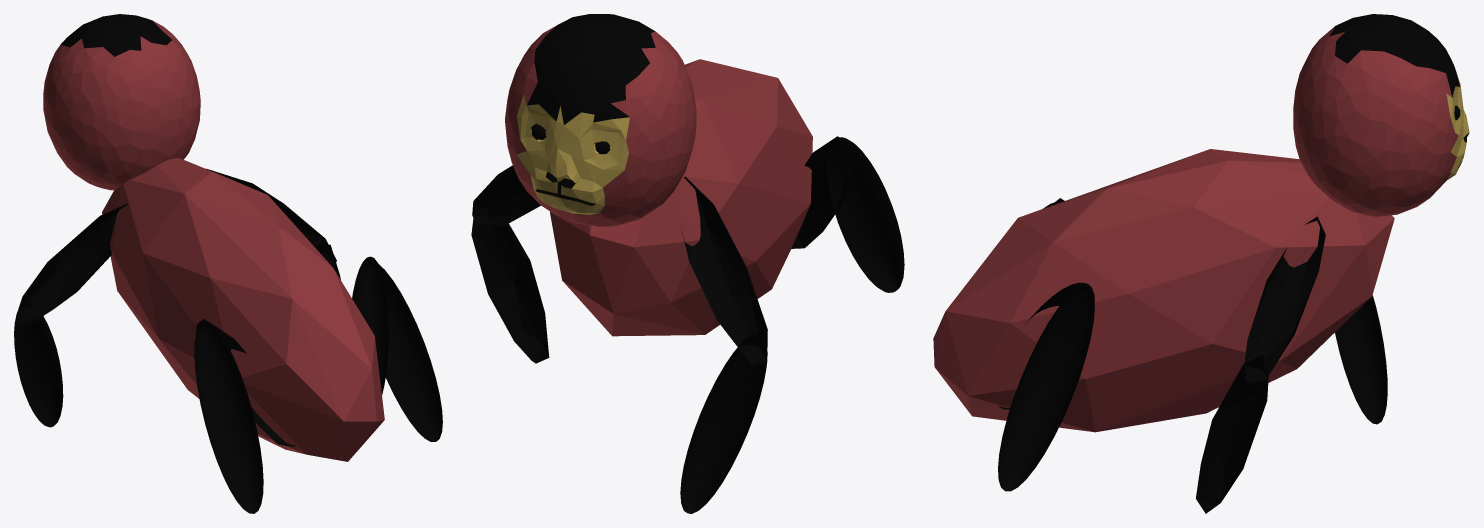
Rendered from małpa zła.fbx.
The picture shows the model from 3 angles, left to right: view 1: azimuth 30°, elevation 25°; view 2: azimuth 150°, elevation 25°; view 3: azimuth 270°, elevation 25°; orthographic projection. The views are drawn at different scales.
Visible parts, largest first — view 1: Sphere.043; view 2: Sphere.043; view 3: Sphere.043.
Part boxes in pixels (x1=…): Sphere.043: x1=14, y1=14, x2=442, y2=513; Sphere.043: x1=471, y1=14, x2=904, y2=513; Sphere.043: x1=933, y1=14, x2=1469, y2=513.
Size of the model in its own units: 134 by 176 by 194.
